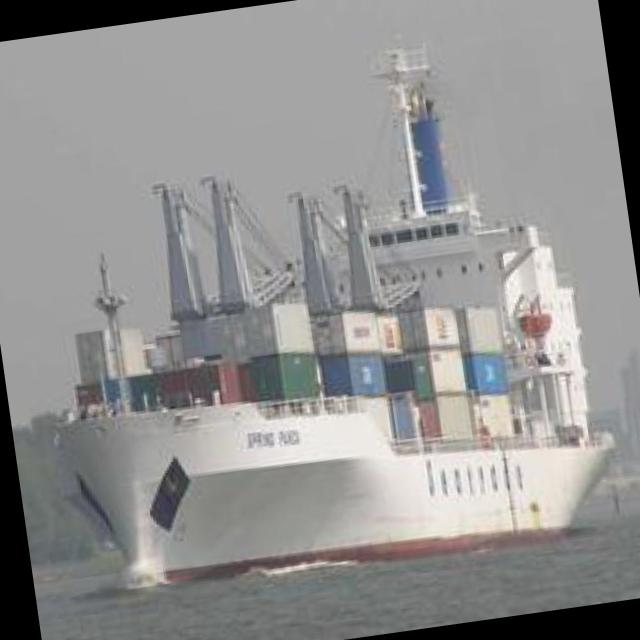boat: (11, 86, 629, 608)
